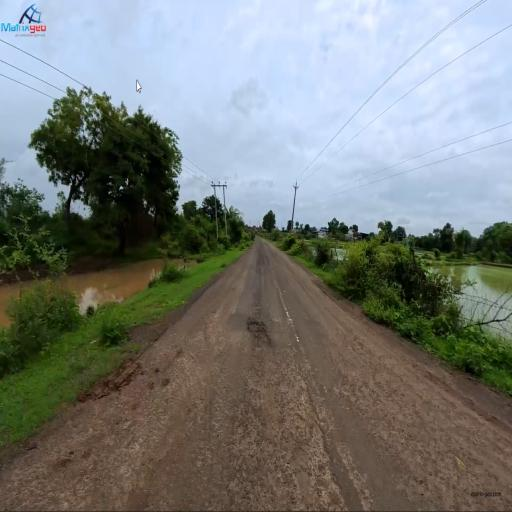ravelling: (267, 376, 442, 483), (139, 396, 222, 470)
